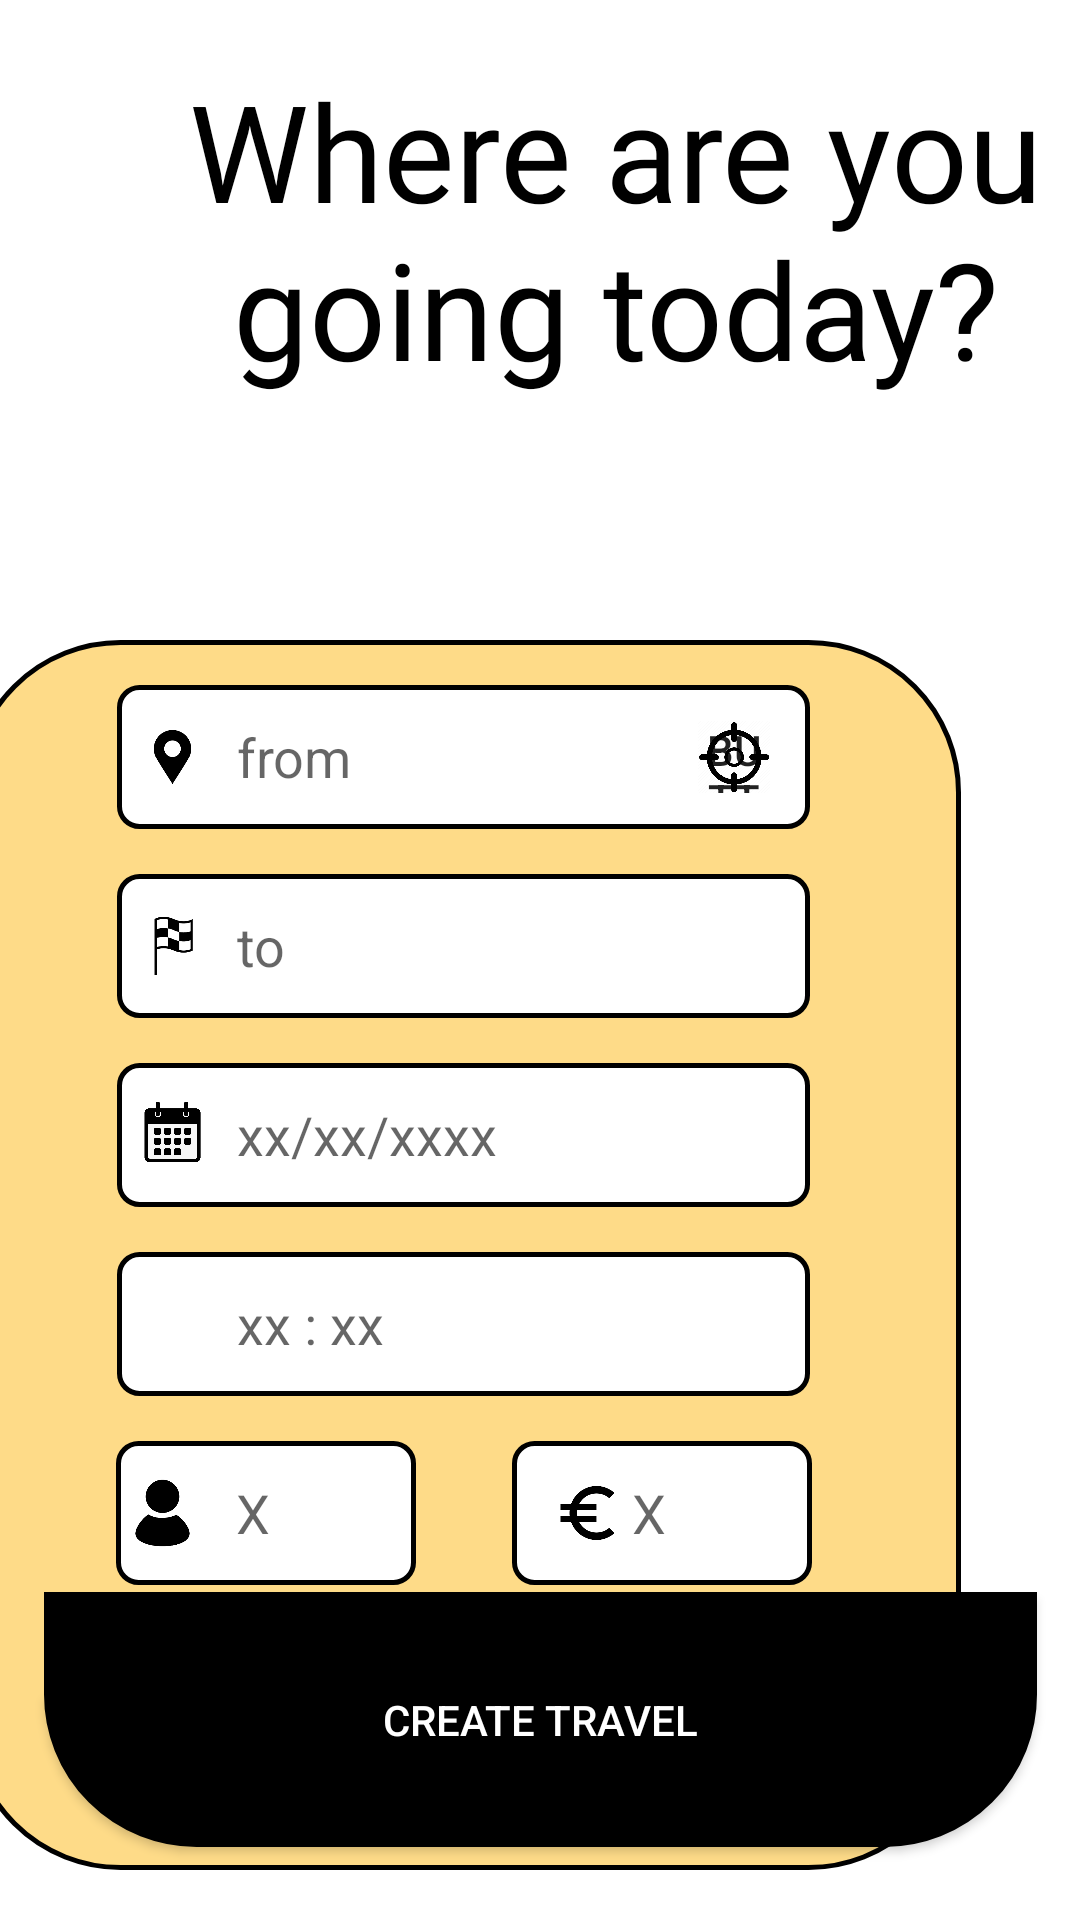

Icon click points for this 1080 × 1920 phone screenshot, format (x=x, y=y):
calender: (x=172, y=1132)
euro: (x=587, y=1513)
finish: (x=173, y=946)
head: (x=162, y=1513)
location: (x=172, y=757)
